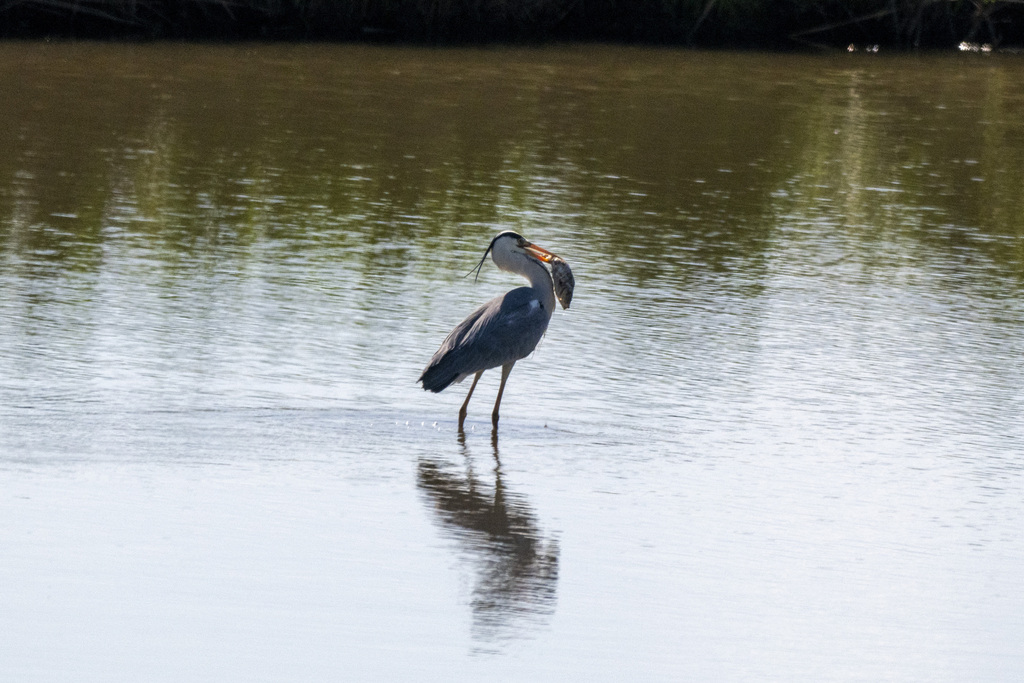heron: (419, 225, 575, 450)
